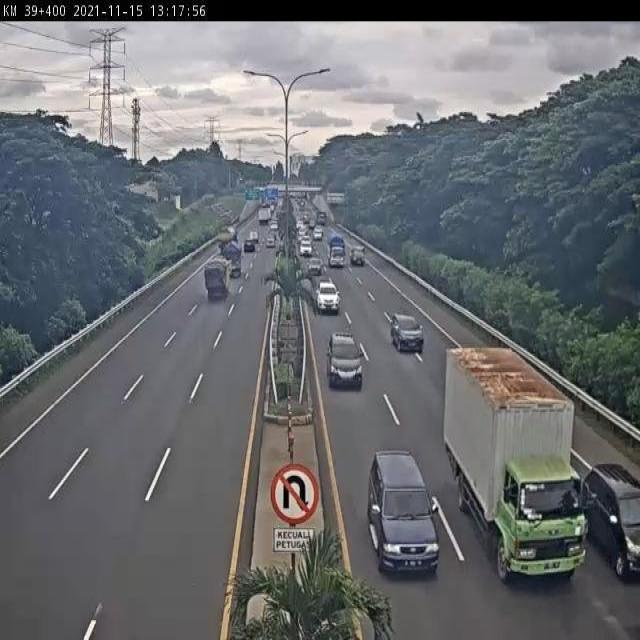Car: (364, 448, 444, 578), (582, 458, 640, 578), (326, 328, 364, 389), (390, 312, 424, 352), (315, 280, 341, 315), (308, 256, 322, 276), (300, 238, 313, 258), (242, 238, 255, 255), (313, 227, 323, 241), (266, 234, 276, 248), (269, 221, 278, 232)
Truck: (441, 343, 594, 585), (203, 259, 231, 301), (222, 238, 243, 280), (326, 234, 346, 269), (216, 226, 238, 252), (350, 244, 366, 266), (257, 207, 272, 224), (316, 210, 328, 227), (249, 229, 259, 244)
